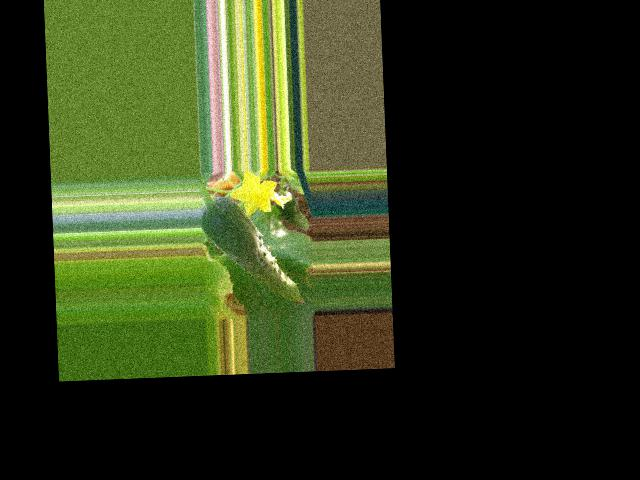cucumber: (200, 193, 304, 307)
